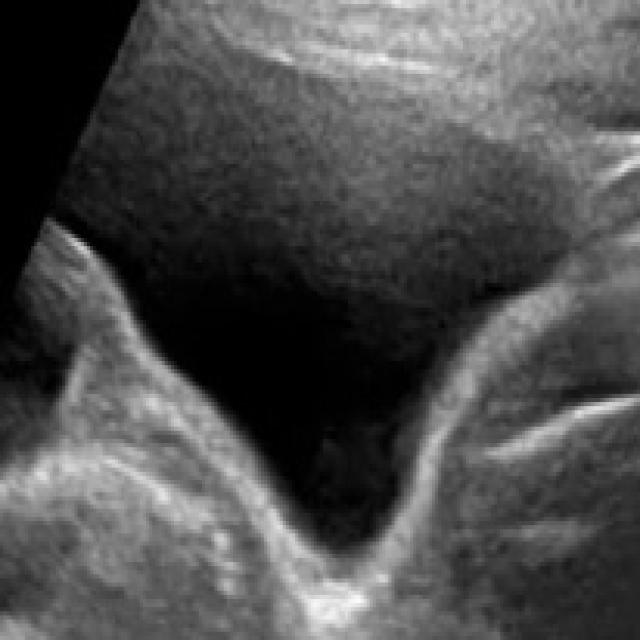bladder: (37, 5, 583, 606)
